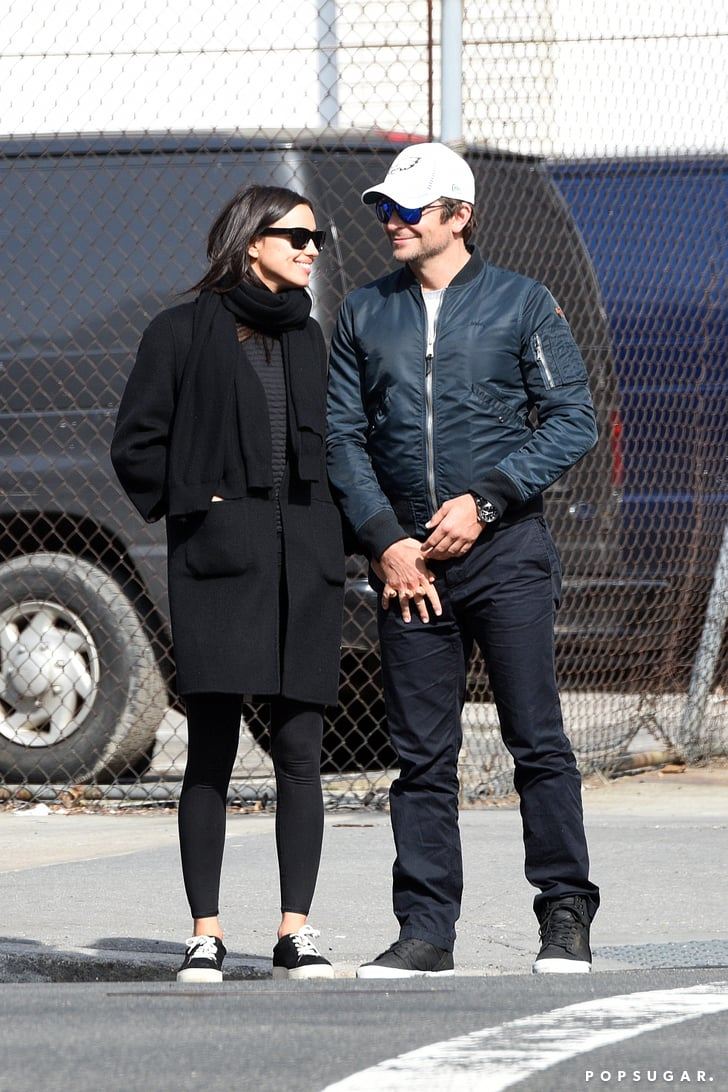Person: (107, 181, 433, 985), (325, 142, 603, 975)
